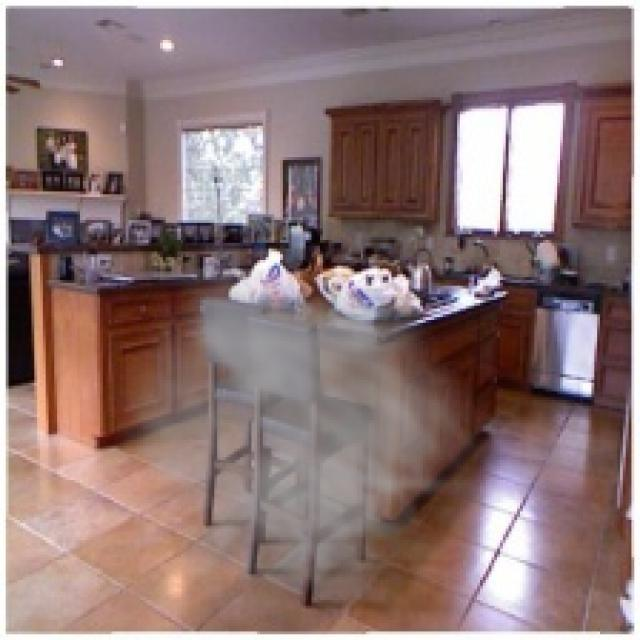smoke: (100, 268, 497, 626)
